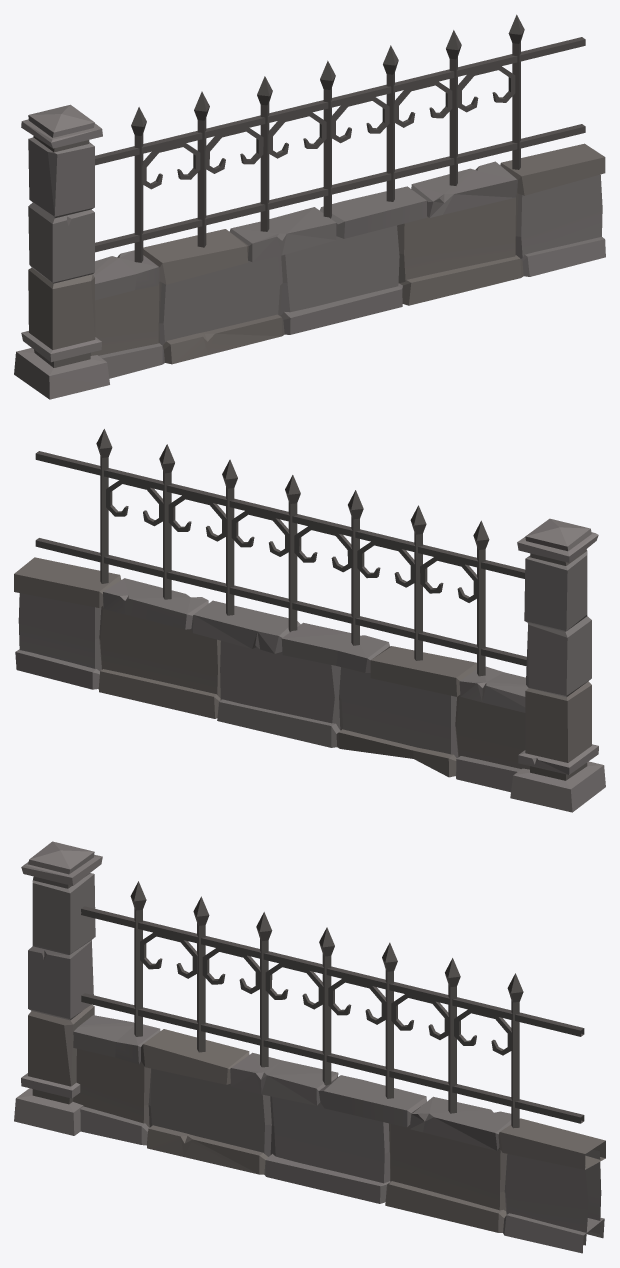
File: WallBig.fbx
The picture shows the model from 3 angles, top to bottom: view 1: azimuth 30°, elevation 25°; view 2: azimuth 150°, elevation 25°; view 3: azimuth 330°, elevation 25°; orthographic projection.
Parts seen in each view (by area): view 1: wall_graveyard_3m__2_; view 2: wall_graveyard_3m__2_; view 3: wall_graveyard_3m__2_.
Boxes of the visible parts, x1,y1,x2,y2 form: wall_graveyard_3m__2_: (14, 14, 605, 399); wall_graveyard_3m__2_: (14, 429, 605, 812); wall_graveyard_3m__2_: (14, 841, 605, 1253).
Bounding box in the file's own units: 318 × 143 × 34.5.
Materials: 1 (1 with a texture image).
